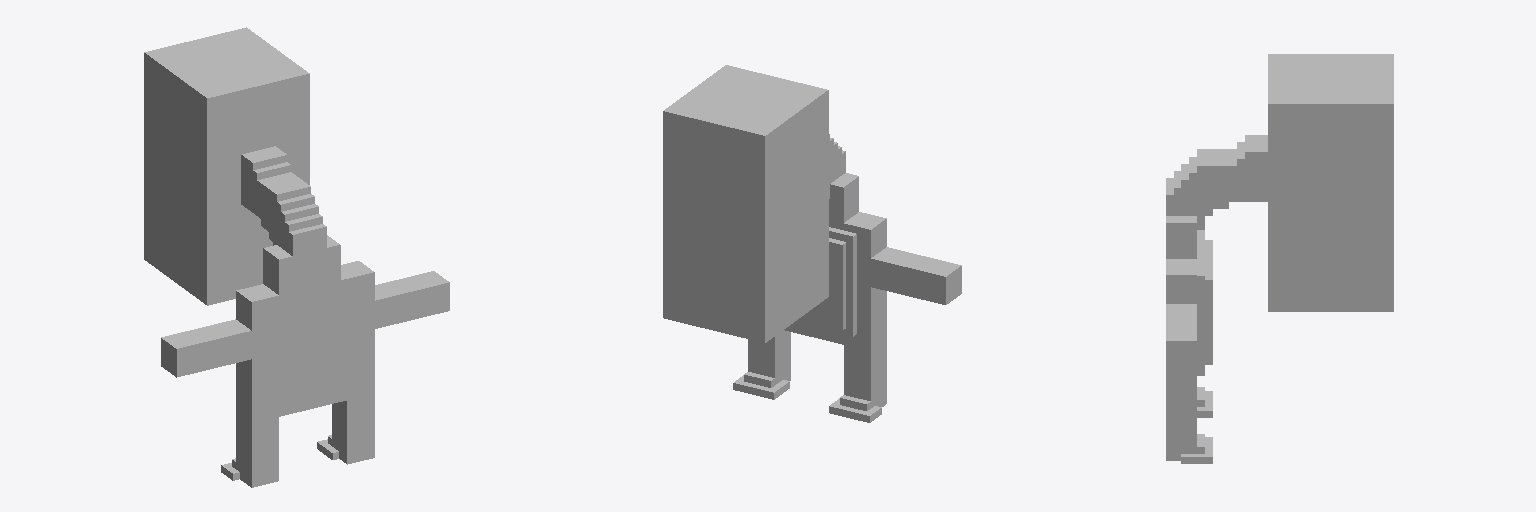
Rendered from other thing.obj.
The picture shows the model from 3 angles: view 1: azimuth 30°, elevation 25°; view 2: azimuth 150°, elevation 25°; view 3: azimuth 270°, elevation 25°; orthographic projection.
Parts seen in each view (by area): view 1: object 1; view 2: object 1; view 3: object 1.
Part boxes in pixels (x1,y1,x2,y2): object 1: (144, 27, 449, 487); object 1: (663, 65, 961, 422); object 1: (1166, 54, 1393, 463).
Size of the model in its own units: 4 by 4.9 by 2.9.